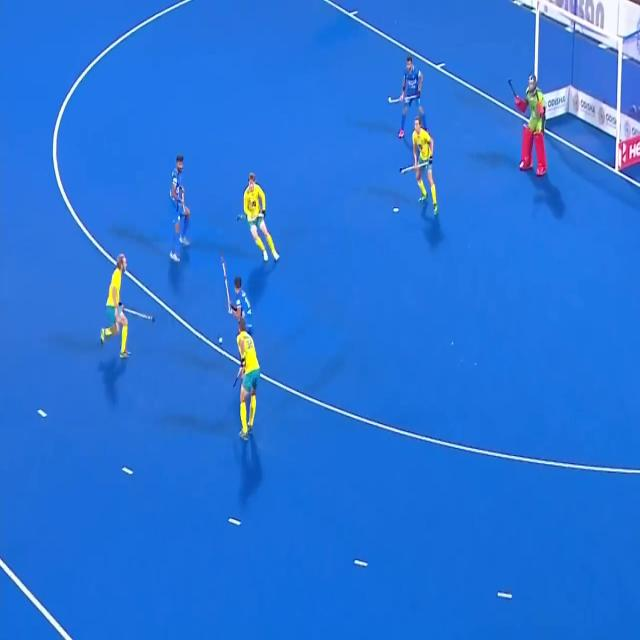ball: (215, 332, 226, 348)
